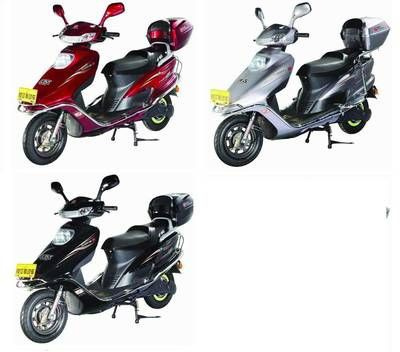non-vehicle: (204, 4, 392, 173), (14, 176, 200, 345), (15, 3, 193, 168)
